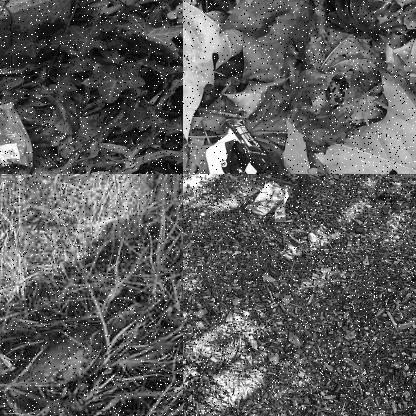glass: (8, 296, 146, 409)
plastic: (200, 117, 278, 173), (0, 110, 37, 167), (249, 179, 294, 224)
